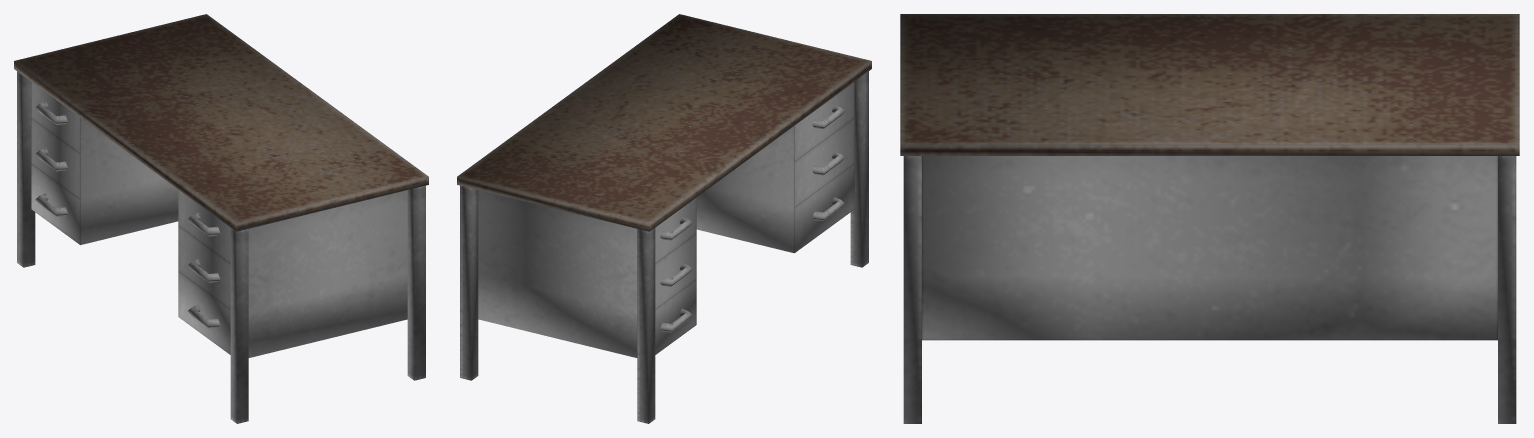
Rendered from demo_office_psx_asset_pack_by_ALEX.fbx.
3 views of the same model, side by side, from view 1: azimuth 30°, elevation 25°; view 2: azimuth 150°, elevation 25°; view 3: azimuth 270°, elevation 25° (orthographic). The views are drawn at different scales.
Parts seen in each view (by area): view 1: desk02; view 2: desk02; view 3: desk02.
Boxes of the visible parts, box(x1,y1,x2,y2) form: desk02: box(14, 14, 428, 423); desk02: box(457, 14, 871, 423); desk02: box(900, 14, 1519, 423).
Size of the model in its own units: 200 by 100 by 100.
